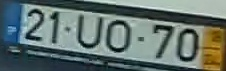0: (174, 27, 200, 63)
1: (47, 9, 61, 45)
2: (22, 7, 45, 42)
7: (151, 23, 174, 60)
O: (104, 18, 133, 54)
U: (74, 12, 105, 50)
